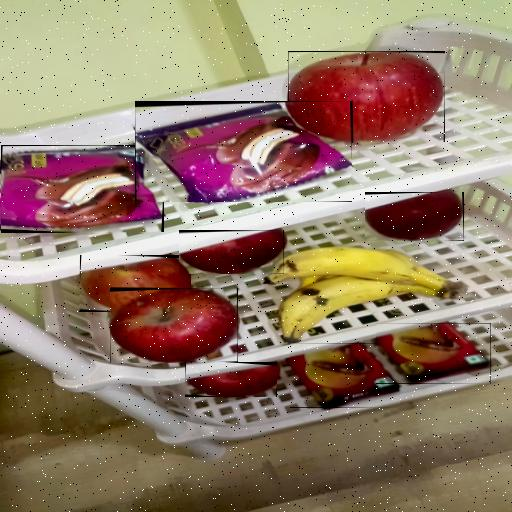Apple: (288, 52, 445, 144), (110, 288, 238, 363), (78, 255, 190, 312), (365, 192, 464, 241), (179, 230, 284, 274), (185, 362, 277, 397)
Choco Fills: (290, 343, 400, 408), (376, 323, 491, 384)
Choco Pie: (135, 101, 352, 202), (1, 146, 164, 234)
